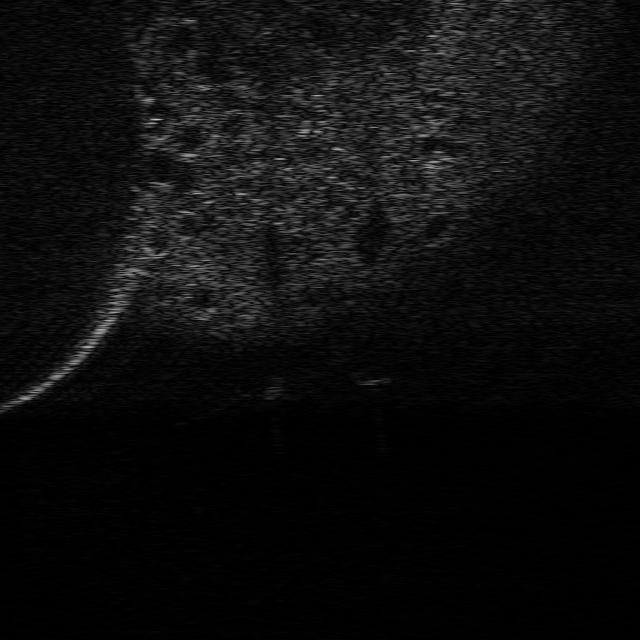cube: (349, 366, 390, 388)
cylinder: (266, 373, 288, 402)
